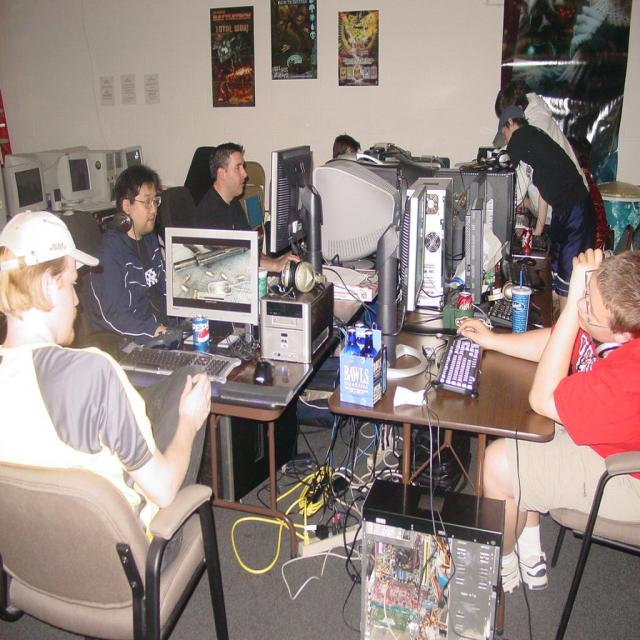chair: (1, 461, 228, 638), (549, 452, 639, 638)
desk: (330, 332, 554, 630)
keyboard: (118, 346, 243, 386), (434, 335, 482, 396)
mouse: (253, 360, 274, 386)
person: (0, 208, 216, 586), (460, 243, 640, 595), (492, 103, 603, 295), (88, 164, 173, 343), (190, 143, 262, 246), (332, 133, 362, 159)
tv: (164, 229, 260, 327), (268, 145, 313, 254), (2, 153, 46, 219)
